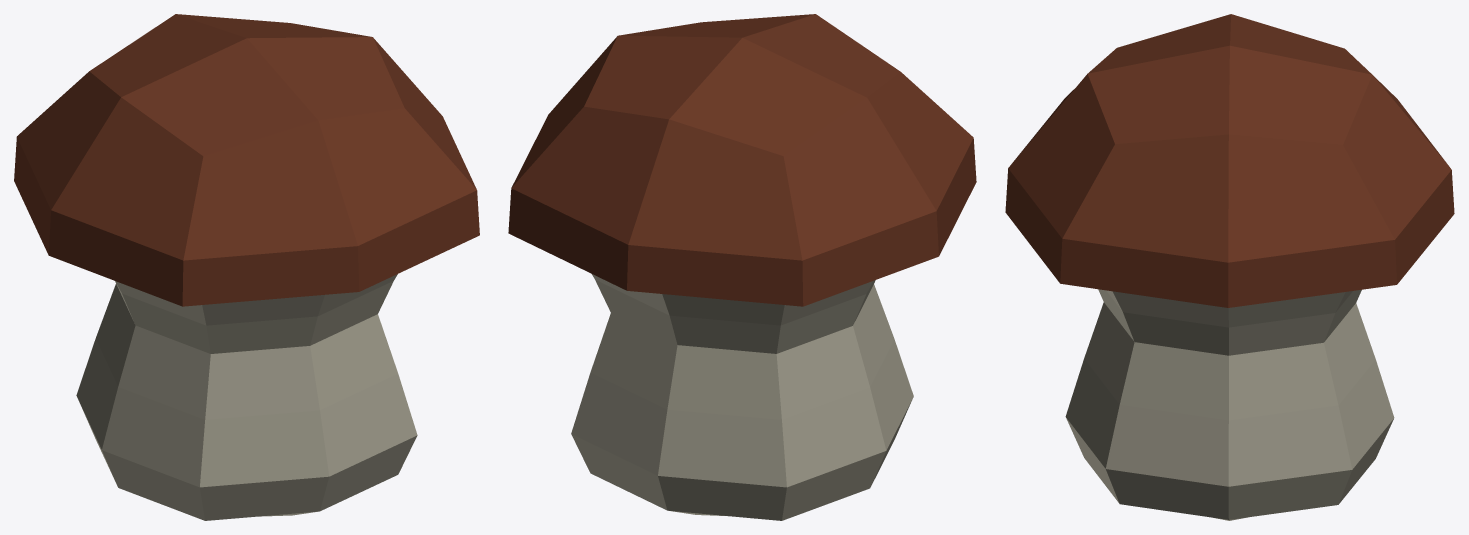
File: Mushroom_1.glb
3 views of the same model, side by side, from view 1: azimuth 30°, elevation 25°; view 2: azimuth 150°, elevation 25°; view 3: azimuth 270°, elevation 25° (orthographic).
Parts seen in each view (by area): view 1: Mushroom_1_Cube.008; view 2: Mushroom_1_Cube.008; view 3: Mushroom_1_Cube.008.
Boxes of the visible parts, bbox=[...] form: Mushroom_1_Cube.008: bbox=[14, 14, 479, 520]; Mushroom_1_Cube.008: bbox=[508, 14, 976, 520]; Mushroom_1_Cube.008: bbox=[1005, 14, 1454, 520].
Size of the model in its own units: 0.1085 by 0.1186 by 0.1085.
